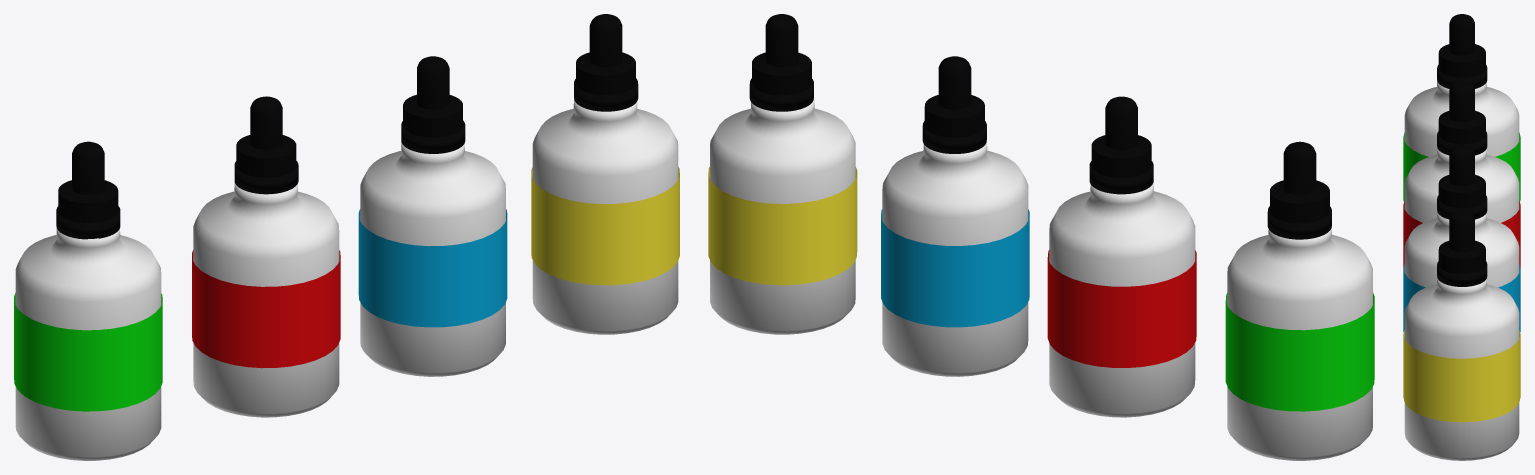
The model's file is qatarat0.2 (1).fbx.
3 renders of one model, left to right at view 1: azimuth 30°, elevation 25°; view 2: azimuth 150°, elevation 25°; view 3: azimuth 270°, elevation 25°, orthographic. The views are drawn at different scales.
Parts seen in each view (by area): view 1: Cylinder.021, Cylinder.029, Cylinder.018, Cylinder.025, Cylinder.026, Cylinder.030, Cylinder.004, Cylinder.022, Cylinder.032, Cylinder.024, Cylinder.020, Cylinder.028; view 2: Cylinder.021, Cylinder.025, Cylinder.029, Cylinder.018, Cylinder.004, Cylinder.030, Cylinder.022, Cylinder.026, Cylinder.028, Cylinder.020, Cylinder.032, Cylinder.024; view 3: Cylinder.029, Cylinder.030, Cylinder.018, Cylinder.025, Cylinder.021, Cylinder.032, Cylinder.020, Cylinder.028, Cylinder.024, Cylinder.004, Cylinder.026, Cylinder.022.
Part boxes in pixels (<box>): Cylinder.021: <box>193,183,339,417</box>; Cylinder.029: <box>532,98,678,334</box>; Cylinder.018: <box>15,228,161,460</box>; Cylinder.025: <box>360,142,505,376</box>; Cylinder.026: <box>358,209,507,327</box>; Cylinder.030: <box>531,167,679,285</box>; Cylinder.004: <box>14,293,162,411</box>; Cylinder.022: <box>192,250,340,368</box>; Cylinder.032: <box>574,14,638,111</box>; Cylinder.024: <box>234,96,298,194</box>; Cylinder.020: <box>56,141,120,239</box>; Cylinder.028: <box>401,56,465,153</box>; Cylinder.021: <box>1049,181,1195,417</box>; Cylinder.025: <box>882,140,1028,376</box>; Cylinder.029: <box>710,97,855,334</box>; Cylinder.018: <box>1227,226,1372,460</box>; Cylinder.004: <box>1225,293,1374,411</box>; Cylinder.030: <box>708,167,857,285</box>; Cylinder.022: <box>1047,250,1196,367</box>; Cylinder.026: <box>881,209,1029,327</box>; Cylinder.028: <box>922,56,986,153</box>; Cylinder.020: <box>1267,141,1331,239</box>; Cylinder.032: <box>749,14,813,111</box>; Cylinder.024: <box>1089,96,1153,194</box>; Cylinder.029: <box>1404,277,1519,460</box>; Cylinder.030: <box>1403,330,1520,422</box>; Cylinder.018: <box>1404,80,1519,156</box>; Cylinder.025: <box>1404,212,1519,287</box>; Cylinder.021: <box>1404,148,1519,222</box>; Cylinder.032: <box>1437,210,1487,286</box>; Cylinder.020: <box>1437,14,1487,88</box>; Cylinder.028: <box>1437,144,1487,219</box>; Cylinder.024: <box>1437,80,1487,155</box>; Cylinder.004: <box>1403,132,1520,201</box>; Cylinder.026: <box>1403,264,1520,332</box>; Cylinder.022: <box>1403,200,1520,267</box>.
Size of the model in its own units: 168 by 73.32 by 33.64.
